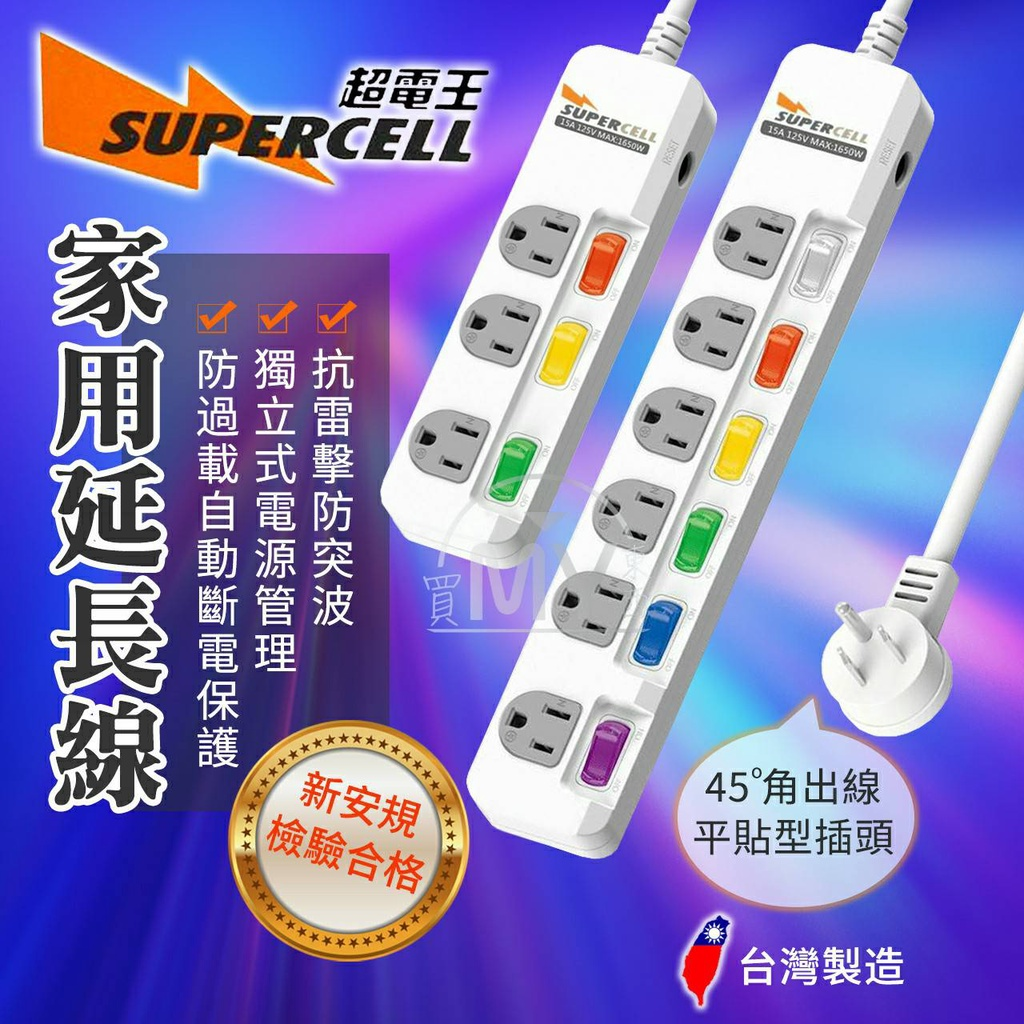socket: (466, 15, 936, 861), (376, 13, 719, 571)
